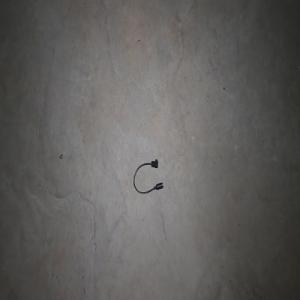Wire: (133, 159, 163, 194)
